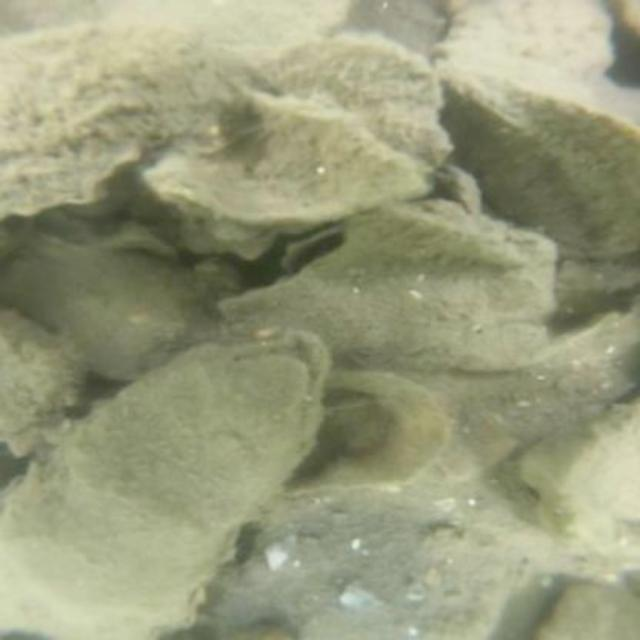Oyster-Closed: (13, 328, 340, 617), (144, 81, 485, 262), (220, 205, 552, 372), (0, 18, 245, 214), (212, 486, 513, 638), (436, 49, 635, 252), (230, 32, 461, 188), (4, 235, 201, 372), (261, 368, 456, 497), (455, 0, 622, 101), (107, 0, 357, 58), (4, 309, 82, 441), (524, 583, 638, 638)
